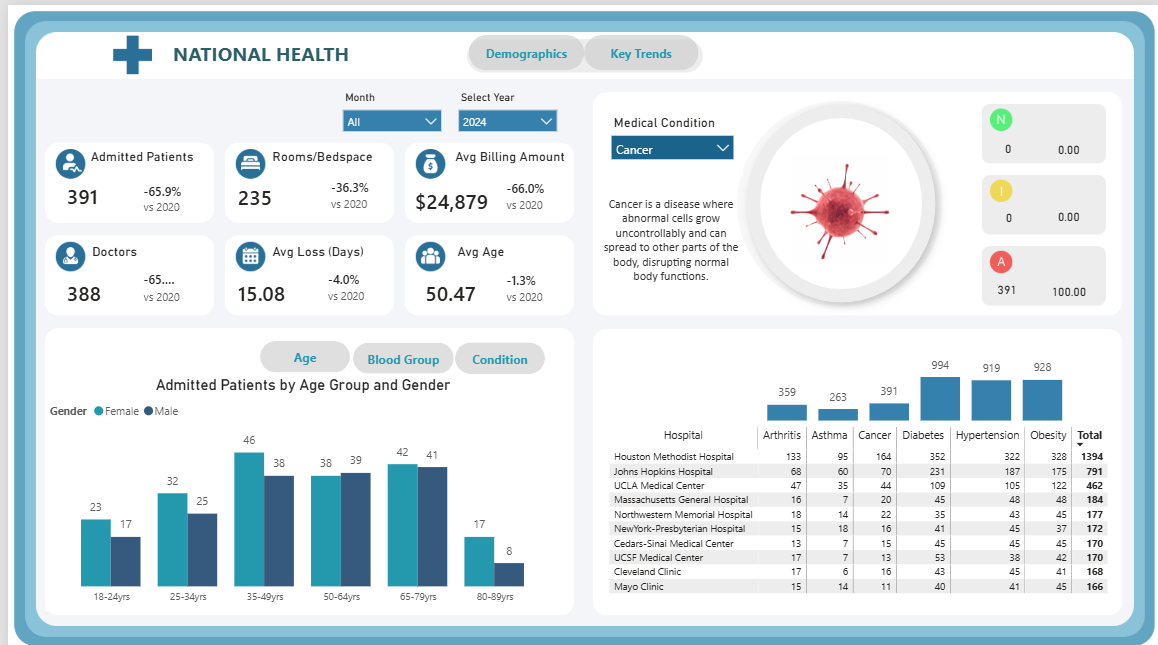

This screenshot's page, from the dashboard's own definition file:
{"tool":"powerbi","page":{"name":"Demographics","canvas":[1280,720],"ordinal":0},"visuals":[{"type":"slicer","fields":{"Values":["Data.Date of Admission.Variation.Date Hierarchy.Year"]},"box":[495.1,95.4,120,45],"z":0},{"type":"cardVisual","fields":{"Data":["Measure Table.Count of Patient ID % difference from 2020"]},"box":[125.7,186.2,103,60.6],"z":0,"group":"g2"},{"type":"cardVisual","fields":{"Data":["Measure Table.Total beds % difference from 2020"]},"box":[334.7,183.2,104.5,56],"z":1000,"group":"g2"},{"type":"columnChart","fields":{"Category":["Data.Medical Condition"],"Y":["CountNonNull(Data.Patient ID)"]},"box":[838.9,375.5,339.2,92.4],"z":1000},{"type":"cardVisual","title":"Doctors","fields":{"Data":["Measure Table.No. of Doctors"]},"box":[40.9,265,159,80.3],"z":2000,"group":"g2"},{"type":"pivotTable","fields":{"Columns":["Data.Medical Condition"],"Rows":["Data.Hospital"],"Values":["CountNonNull(Data.Medical Condition)"]},"box":[667.8,467.9,558.7,201.4],"z":2000},{"type":"cardVisual","fields":{"Data":["Measure Table.No. of Doctors % difference from 2020"]},"box":[125.7,286.2,89.3,57.5],"z":3000,"group":"g2"},{"type":"clusteredColumnChart","title":"Admitted Patients by Medical Condition","fields":{"Y":["CountNonNull(Data.Patient ID)"],"Series":["Data.Gender"],"Category":["Data.Medical Condition"]},"box":[40.9,425.5,572.4,248.3],"z":3000},{"type":"cardVisual","fields":{"Data":["Measure Table.Avg of LOS % difference from 2020"]},"box":[330.1,281.6,92.4,63.6],"z":4000,"group":"g2"},{"type":"cardVisual","fields":{"Data":["Measure Table.Sum of Billing Amount % difference from 2020 2"]},"box":[528.5,183.2,93.9,57.5],"z":6000,"group":"g2"},{"type":"group","id":"g1","title":"Group 1","box":[279.9,374,317.2,36.5],"z":6000},{"type":"slicer","fields":{"Values":["Data.Date of Admission.Variation.Date Hierarchy.Month"]},"box":[366.4,95.4,120,45],"z":7000},{"type":"cardVisual","fields":{"Data":["Measure Table.avg age % difference from 2020"]},"box":[528.5,281.6,95.4,65.1],"z":7000,"group":"g2"},{"type":"shape","box":[806,96,238,248],"z":8000},{"type":"cardVisual","title":"Avg Billing Amount","fields":{"Data":["Avg(Data.Billing Amount)"]},"box":[427,160.5,195.3,86.3],"z":8000,"group":"g2"},{"type":"card","fields":{"Values":["Min(DimCondition.Description)"]},"box":[657.6,181.4,156.9,149.3],"z":9000},{"type":"group","id":"g2","title":"Group 2","box":[40.9,160.5,583,186.2],"z":10000},{"type":"group","id":"g3","title":"Group 3","box":[511.8,33.3,255.9,39.4],"z":11000},{"type":"cardVisual","title":"Rooms/Bedspace","fields":{"Data":["Measure Table.Total beds"]},"box":[230.2,160.5,178.7,78.7],"z":11000,"group":"g2"},{"type":"textbox","box":[178.7,33.3,269.5,45.4],"z":12000},{"type":"cardVisual","title":"Avg Loss (Days)","fields":{"Data":["Measure Table.Avg of LOS"]},"box":[230.2,265,168.1,80.3],"z":12000,"group":"g2"},{"type":"card","fields":{"Values":["Data.Normal results"]},"box":[1082.7,151.4,56,18.2],"z":13000},{"type":"cardVisual","title":"Avg Age","fields":{"Data":["Measure Table.avg age"]},"box":[439.1,265,116.6,80.3],"z":13000,"group":"g2"},{"type":"cardVisual","title":"Admitted Patients","fields":{"Data":["CountNonNull(Data.Patient ID)"]},"box":[40.9,160.5,169.6,74.2],"z":14000,"group":"g2"},{"type":"card","fields":{"Values":["Data.Inconclusive results"]},"box":[1084.2,227.1,54.5,21.2],"z":14000},{"type":"card","fields":{"Values":["Data.Abnormal results"]},"box":[1087.2,308.9,46.9,19.7],"z":15000},{"type":"card","fields":{"Values":["Data.nor %"]},"box":[1150.8,151.4,57.5,21.2],"z":16000},{"type":"card","fields":{"Values":["Data.inc %"]},"box":[1150.8,227.1,57.5,19.7],"z":17000},{"type":"actionButton","title":"Age","box":[279.9,374,100,35],"z":17000,"group":"g1"},{"type":"card","fields":{"Values":["Data.abn %"]},"box":[1150.8,305.9,57.5,25.7],"z":18000},{"type":"actionButton","title":"Blood Group","box":[383,375.5,112.1,34.8],"z":18000,"group":"g1"},{"type":"image","box":[852.5,166.6,145.4,121.1],"z":19000},{"type":"actionButton","title":"Condition","box":[497.1,375.5,100,35],"z":19000,"group":"g1"},{"type":"actionButton","box":[511.8,33.3,128.7,39.4],"z":20000,"group":"g3"},{"type":"slicer","fields":{"Values":["DimCondition.Medical Condition"]},"box":[659.5,117.2,156.9,73.7],"z":20000},{"type":"actionButton","box":[640.5,33.3,127.2,39.4],"z":21000,"group":"g3"}]}

Visuals, with their boxes in screenshot pixels (x1, y1, x2, y2), scaled from the page's 1280x720 canvas onto the 1158x645 screenshot:
slicer - Data.Date of Admission.Variation.Date Hierarchy.Year: left=448, top=85, right=556, bottom=126
cardVisual - Measure Table.Count of Patient ID % difference from 2020: left=114, top=167, right=207, bottom=221
cardVisual - Measure Table.Total beds % difference from 2020: left=303, top=164, right=397, bottom=214
columnChart - Data.Medical Condition x CountNonNull(Data.Patient ID): left=759, top=336, right=1066, bottom=419
"Doctors" cardVisual: left=37, top=237, right=181, bottom=309
pivotTable - Data.Medical Condition x Data.Hospital: left=604, top=419, right=1110, bottom=600
cardVisual - Measure Table.No. of Doctors % difference from 2020: left=114, top=256, right=195, bottom=308
"Admitted Patients by Medical Condition" clusteredColumnChart: left=37, top=381, right=555, bottom=604
cardVisual - Measure Table.Avg of LOS % difference from 2020: left=299, top=252, right=382, bottom=309
cardVisual - Measure Table.Sum of Billing Amount % difference from 2020 2: left=478, top=164, right=563, bottom=216
"Group 1" group: left=253, top=335, right=540, bottom=368
slicer - Data.Date of Admission.Variation.Date Hierarchy.Month: left=331, top=85, right=440, bottom=126
cardVisual - Measure Table.avg age % difference from 2020: left=478, top=252, right=564, bottom=311
shape: left=729, top=86, right=944, bottom=308
"Avg Billing Amount" cardVisual: left=386, top=144, right=563, bottom=221
card - Min(DimCondition.Description): left=595, top=163, right=737, bottom=296
"Group 2" group: left=37, top=144, right=564, bottom=311
"Group 3" group: left=463, top=30, right=695, bottom=65
"Rooms/Bedspace" cardVisual: left=208, top=144, right=370, bottom=214
textbox: left=162, top=30, right=405, bottom=71
"Avg Loss (Days)" cardVisual: left=208, top=237, right=360, bottom=309
card - Data.Normal results: left=980, top=136, right=1030, bottom=152
"Avg Age" cardVisual: left=397, top=237, right=503, bottom=309
"Admitted Patients" cardVisual: left=37, top=144, right=190, bottom=210
card - Data.Inconclusive results: left=981, top=203, right=1030, bottom=222
card - Data.Abnormal results: left=984, top=277, right=1026, bottom=294
card - Data.nor %: left=1041, top=136, right=1093, bottom=155
card - Data.inc %: left=1041, top=203, right=1093, bottom=221
"Age" actionButton: left=253, top=335, right=344, bottom=366
card - Data.abn %: left=1041, top=274, right=1093, bottom=297
"Blood Group" actionButton: left=346, top=336, right=448, bottom=368
image: left=771, top=149, right=903, bottom=258
"Condition" actionButton: left=450, top=336, right=540, bottom=368
actionButton: left=463, top=30, right=579, bottom=65
slicer - DimCondition.Medical Condition: left=597, top=105, right=739, bottom=171
actionButton: left=579, top=30, right=695, bottom=65
